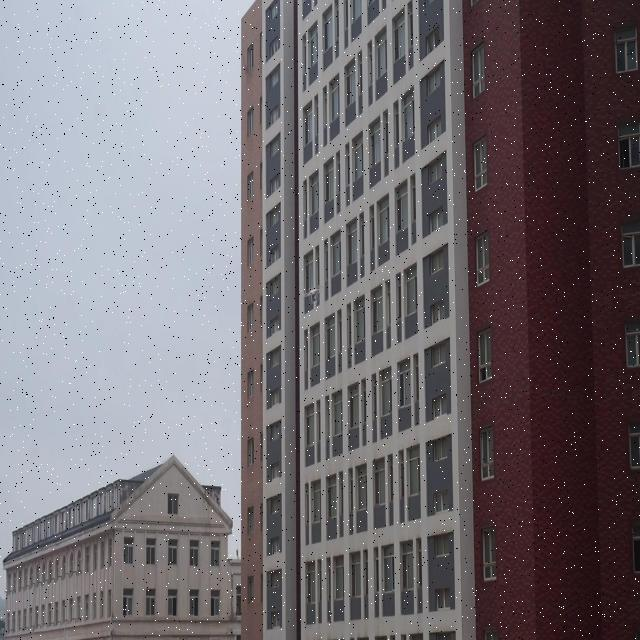UAV: (300, 285, 322, 305)
